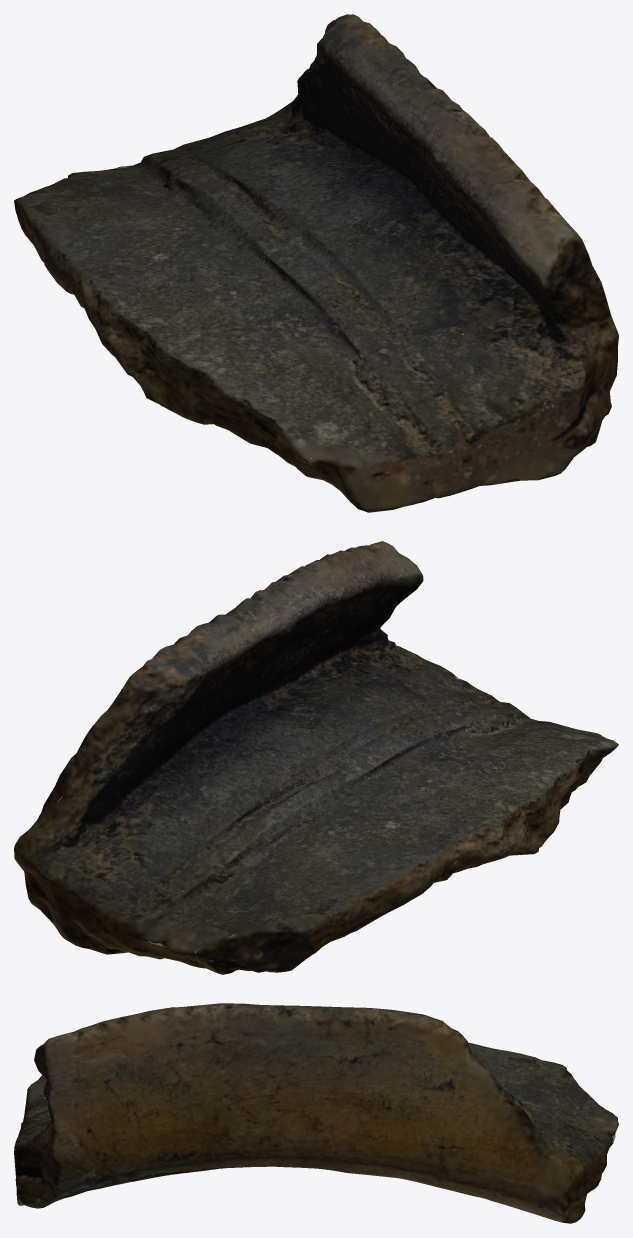
The model's file is ndo.glb.
3 renders of one model, top to bottom at view 1: azimuth 30°, elevation 25°; view 2: azimuth 150°, elevation 25°; view 3: azimuth 270°, elevation 25°, orthographic. The views are drawn at different scales.
Bounding box in the file's own units: 0.0542 × 0.0348 × 0.0897.
Materials: 1 (1 with a texture image).
